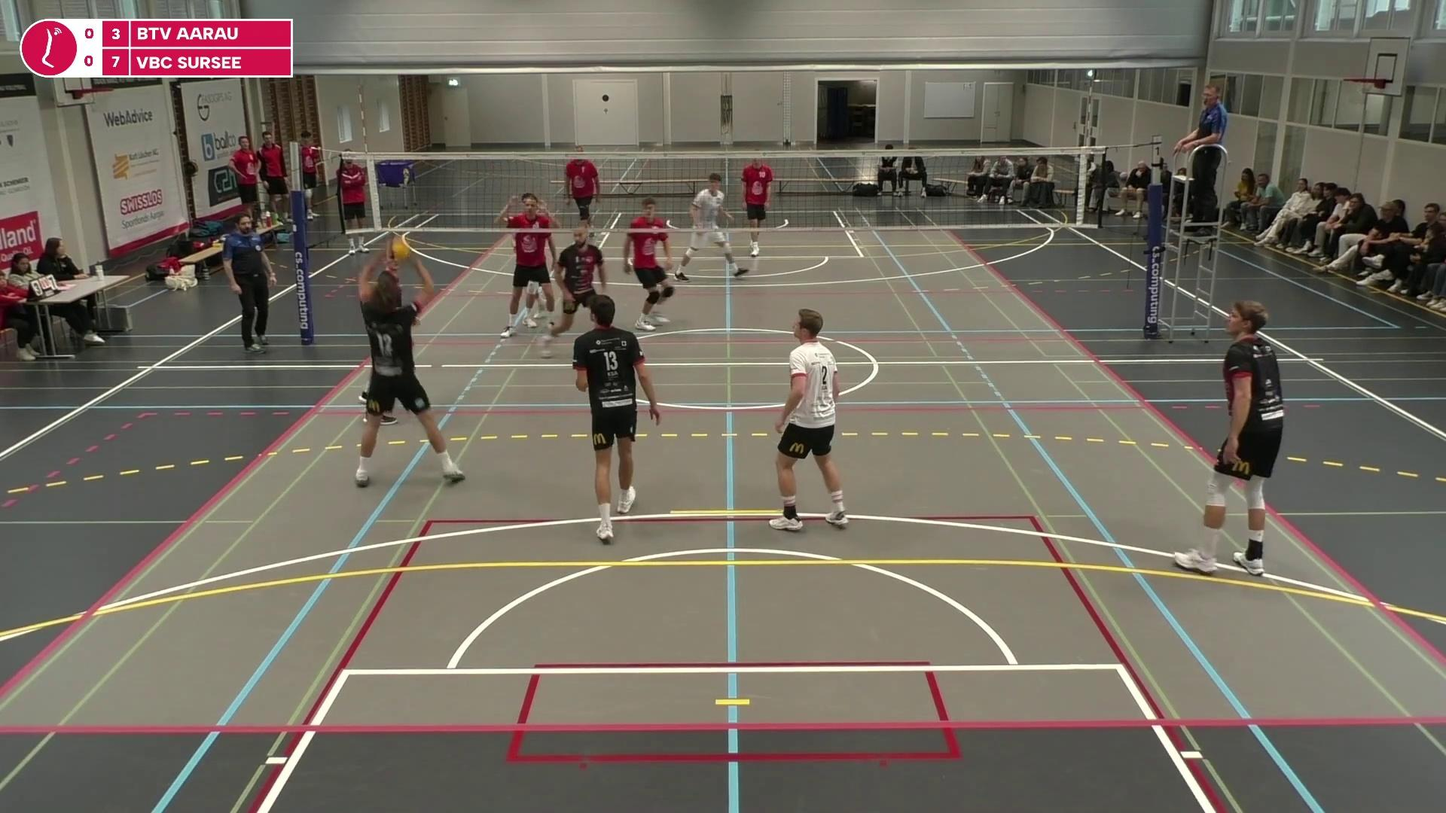Player: (1173, 300, 1284, 576), (572, 295, 660, 543), (770, 309, 848, 531), (540, 226, 606, 358), (499, 193, 557, 337), (621, 198, 677, 332), (676, 173, 746, 280), (740, 153, 774, 257), (563, 145, 600, 231)
Receive: (352, 247, 467, 489)
ball: (388, 233, 417, 261)
